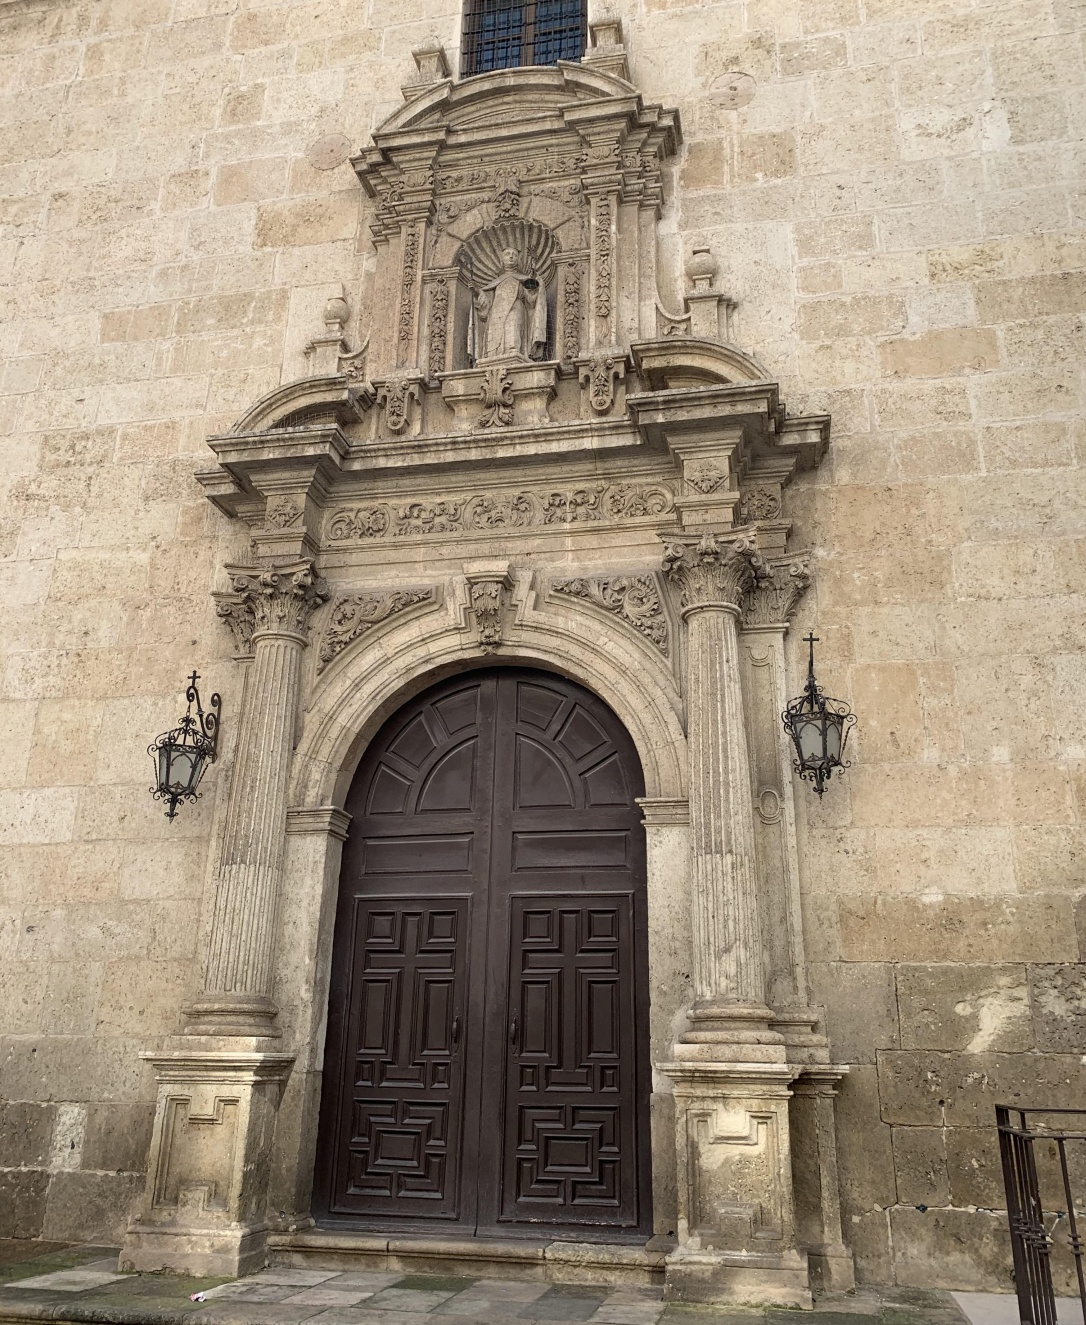arco-medio-punto: (323, 642, 663, 859)
fronton-partido: (232, 342, 781, 463), (372, 58, 638, 154)
